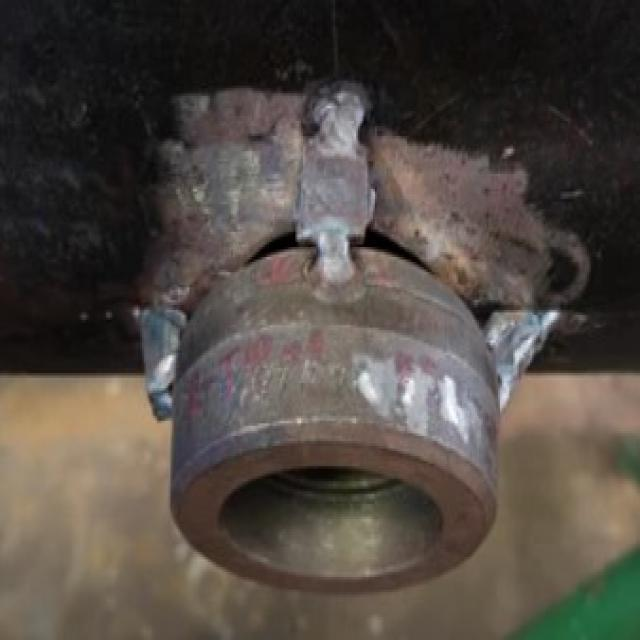Bad Welding: (297, 80, 379, 274), (477, 300, 568, 423), (130, 298, 188, 426)
Crack: (354, 222, 432, 274), (248, 224, 308, 254)
